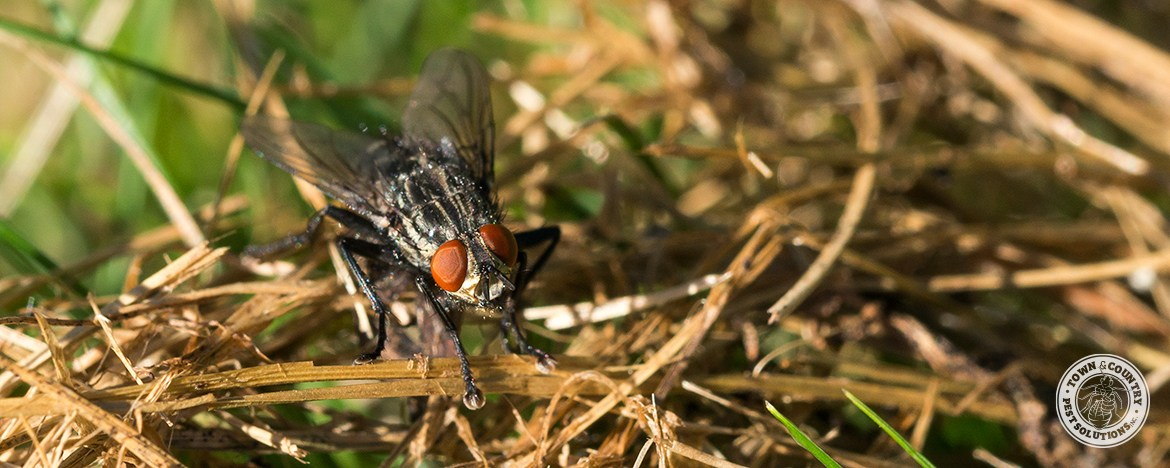fly: (228, 43, 564, 420)
